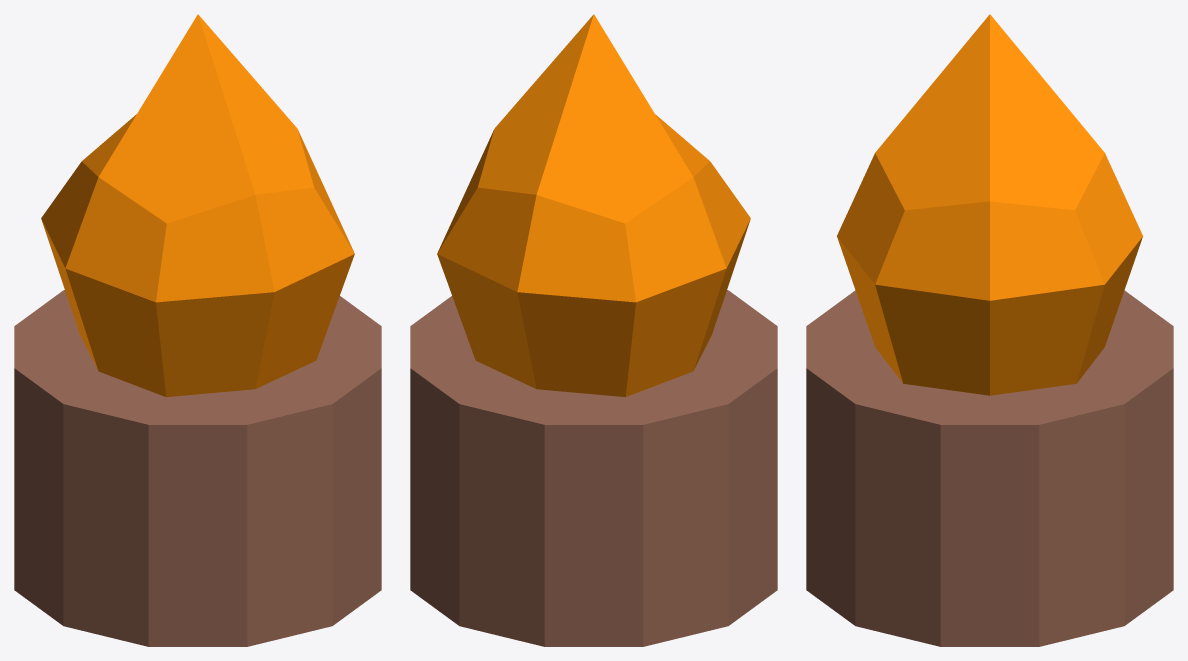
Rendered from torchwood.obj.
3 renders of one model, left to right at view 1: azimuth 30°, elevation 25°; view 2: azimuth 150°, elevation 25°; view 3: azimuth 270°, elevation 25°, orthographic.
Parts seen in each view (by area): view 1: cylinder, cuboid; view 2: cylinder, cuboid; view 3: cylinder, cuboid.
Part boxes in pixels (box(x1,y1,x2,y2)): cylinder: box(14, 290, 381, 646); cuboid: box(41, 14, 354, 397); cylinder: box(410, 290, 777, 646); cuboid: box(437, 14, 750, 397); cylinder: box(806, 290, 1173, 646); cuboid: box(837, 14, 1142, 395).
Bounding box in the file's own units: 0.75 × 1.25 × 0.75.
1 material, 1 textured.
